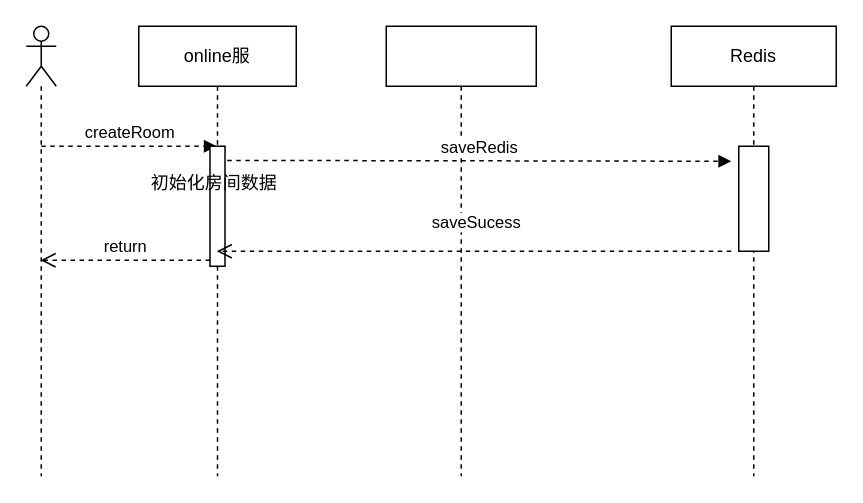
Some shapes in this 863 by 503 pixel diagram are drawn without their labels. Here are the shapes that lost their labels. From the top down, the box of each, then its label:
(737, 145, 769, 251): 房间数据写入Reids
(385, 25, 536, 476): battle服
